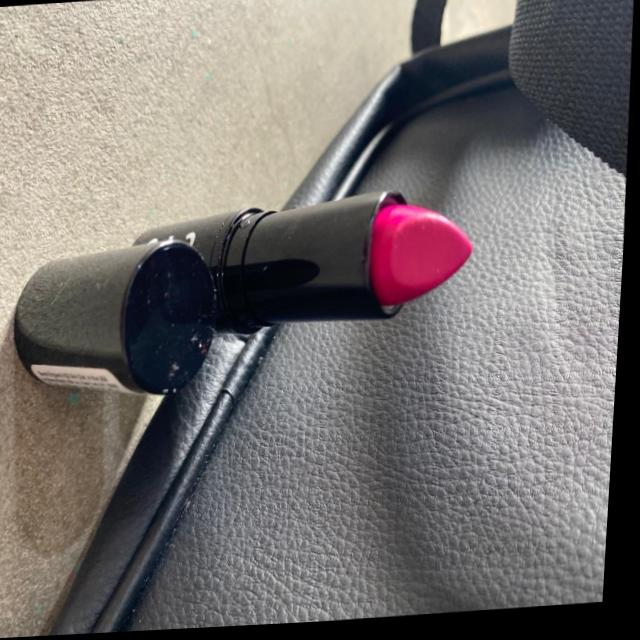lip stick: (139, 184, 500, 349)
